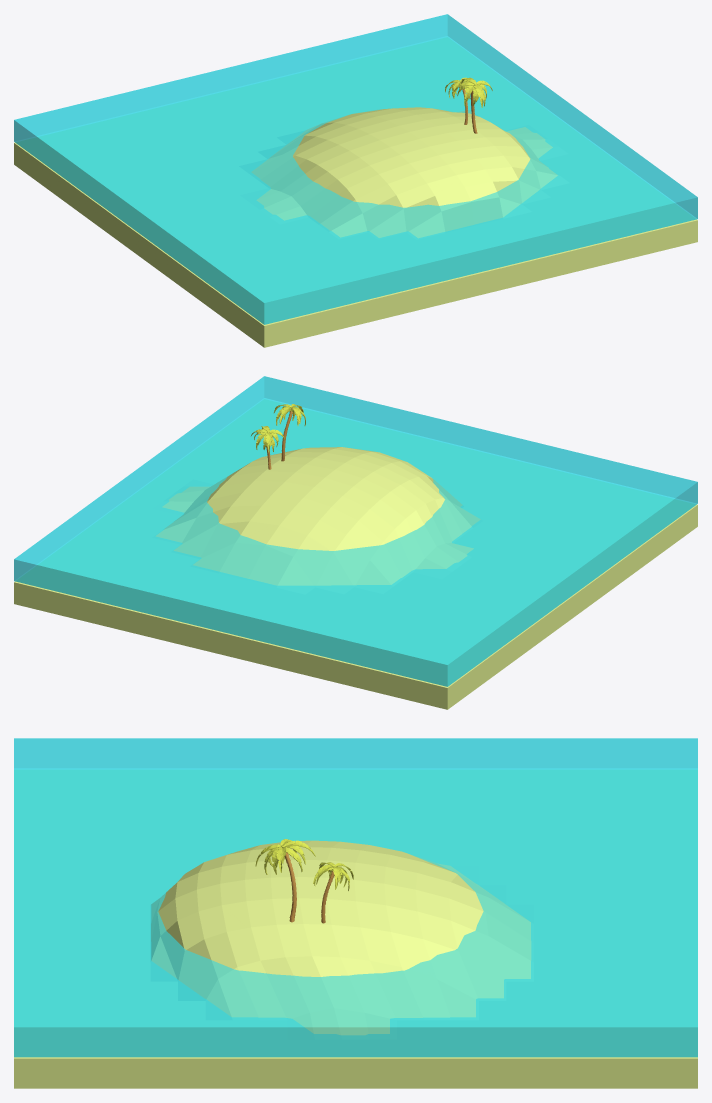
Rendered from ilha.glb.
3 renders of one model, top to bottom at view 1: azimuth 30°, elevation 25°; view 2: azimuth 150°, elevation 25°; view 3: azimuth 270°, elevation 25°, orthographic. The views are drawn at different scales.
Parts seen in each view (by area): view 1: Plane.001, Plane, Plane.002, Cylinder_000; view 2: Plane.001, Plane, Plane.002, Cylinder_000; view 3: Plane.001, Plane, Plane.002, Cylinder_000.
Boxes of the visible parts, <box> form: Plane.001: <box>14,14,697,324</box>; Plane: <box>14,37,697,347</box>; Plane.002: <box>220,96,588,253</box>; Cylinder_000: <box>445,77,492,133</box>; Plane.001: <box>14,376,697,686</box>; Plane: <box>14,399,697,709</box>; Plane.002: <box>134,447,502,607</box>; Cylinder_000: <box>251,404,305,469</box>; Plane.001: <box>14,738,697,1057</box>; Plane: <box>14,770,697,1088</box>; Plane.002: <box>151,840,533,1019</box>; Cylinder_000: <box>255,839,353,923</box>.
Size of the model in its own units: 70.73 by 18.47 by 70.73.
